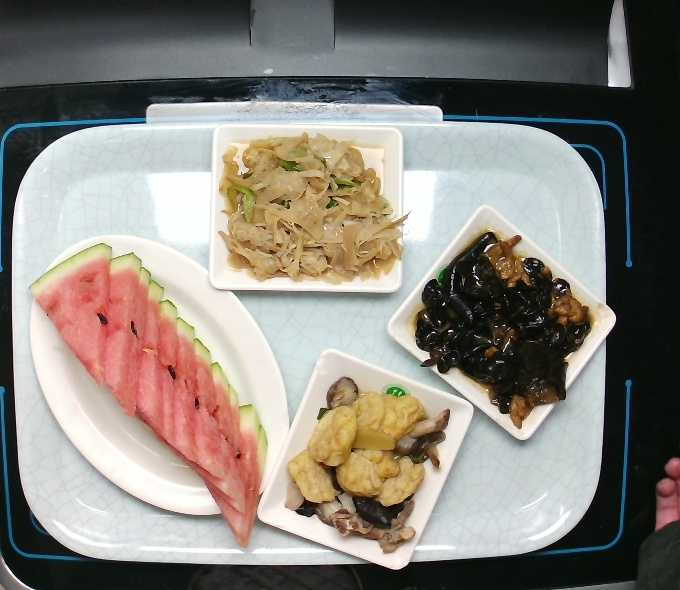wcq-LuSun: (214, 130, 411, 284)
wcq-MuErChaoRou: (410, 224, 599, 433)
wcq-XiGua: (21, 237, 276, 554)
wcq-YouPaoPaiGu: (276, 377, 455, 564)
